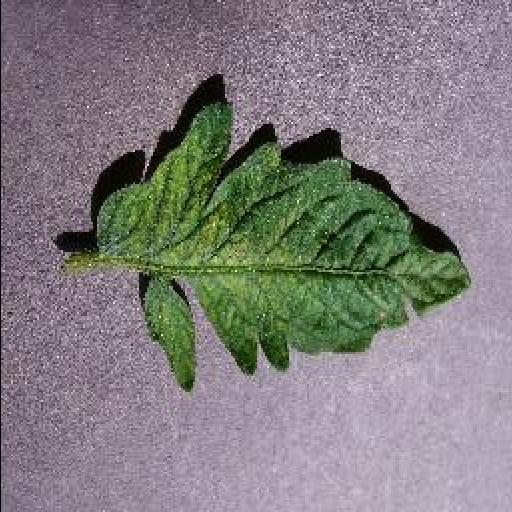Mosaic Virus: (91, 92, 473, 392)
